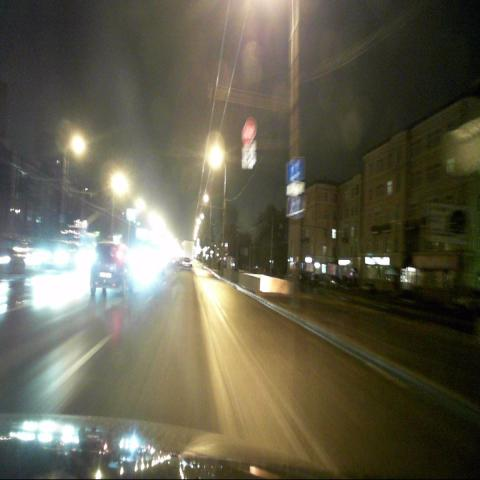6_6: (285, 195, 299, 219)
